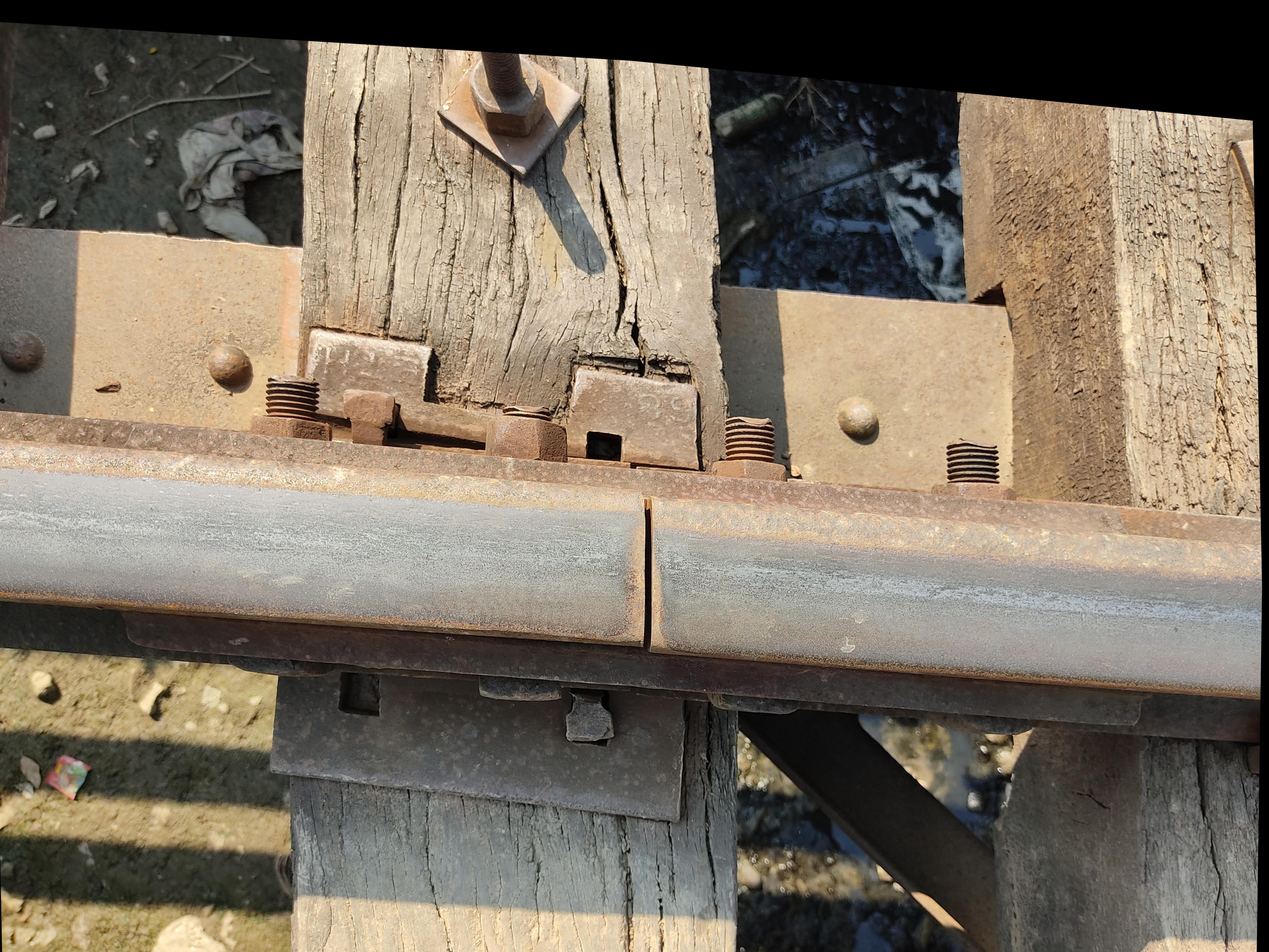person: (553, 485, 713, 685)
